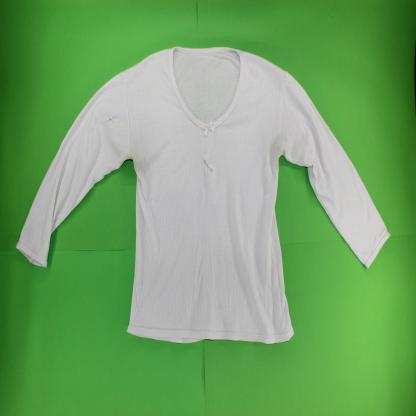hole: (92, 116, 116, 133), (202, 158, 214, 173)
